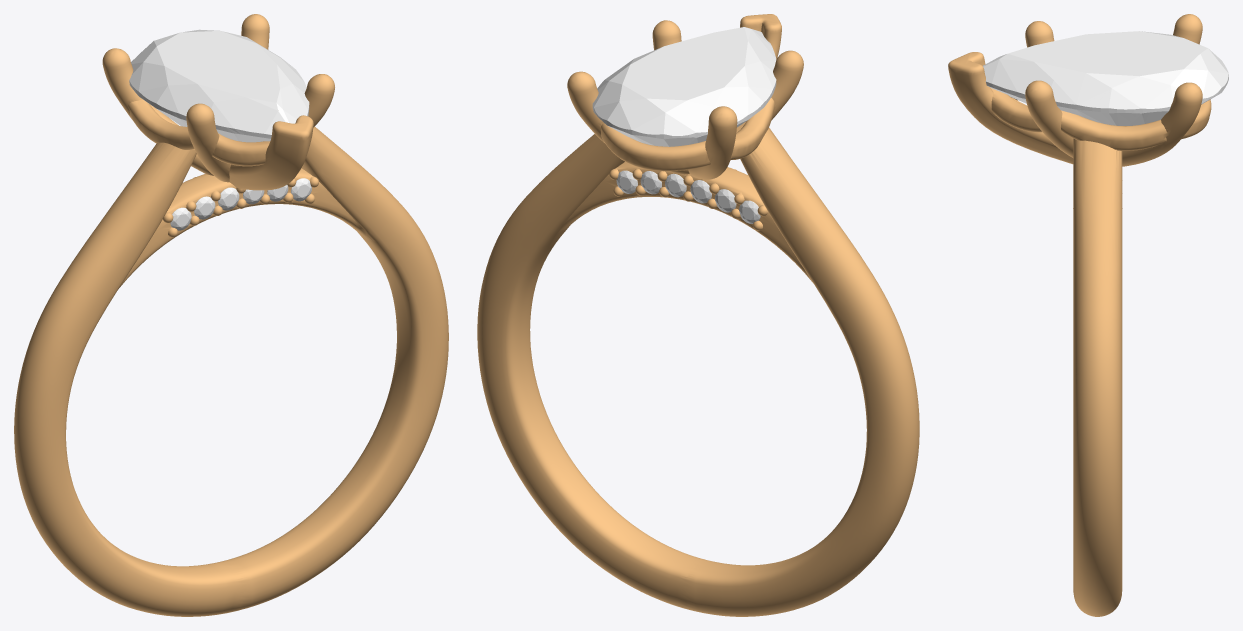
3 views of the same model, side by side, from view 1: azimuth 30°, elevation 25°; view 2: azimuth 150°, elevation 25°; view 3: azimuth 270°, elevation 25° (orthographic).
Visible parts, largest first — view 1: object 14, 3Design CAD STL : part0; view 2: object 14, 3Design CAD STL : part0; view 3: object 14, 3Design CAD STL : part0.
Boxes of the visible parts, x1,y1,x2,y2 form: object 14: [14, 14, 448, 616]; 3Design CAD STL : part0: [129, 29, 309, 142]; object 14: [477, 14, 919, 616]; 3Design CAD STL : part0: [592, 27, 776, 146]; object 14: [948, 14, 1211, 616]; 3Design CAD STL : part0: [983, 31, 1228, 125].
Bounding box in the file's own units: 2.39 × 2.9 × 1.36.
